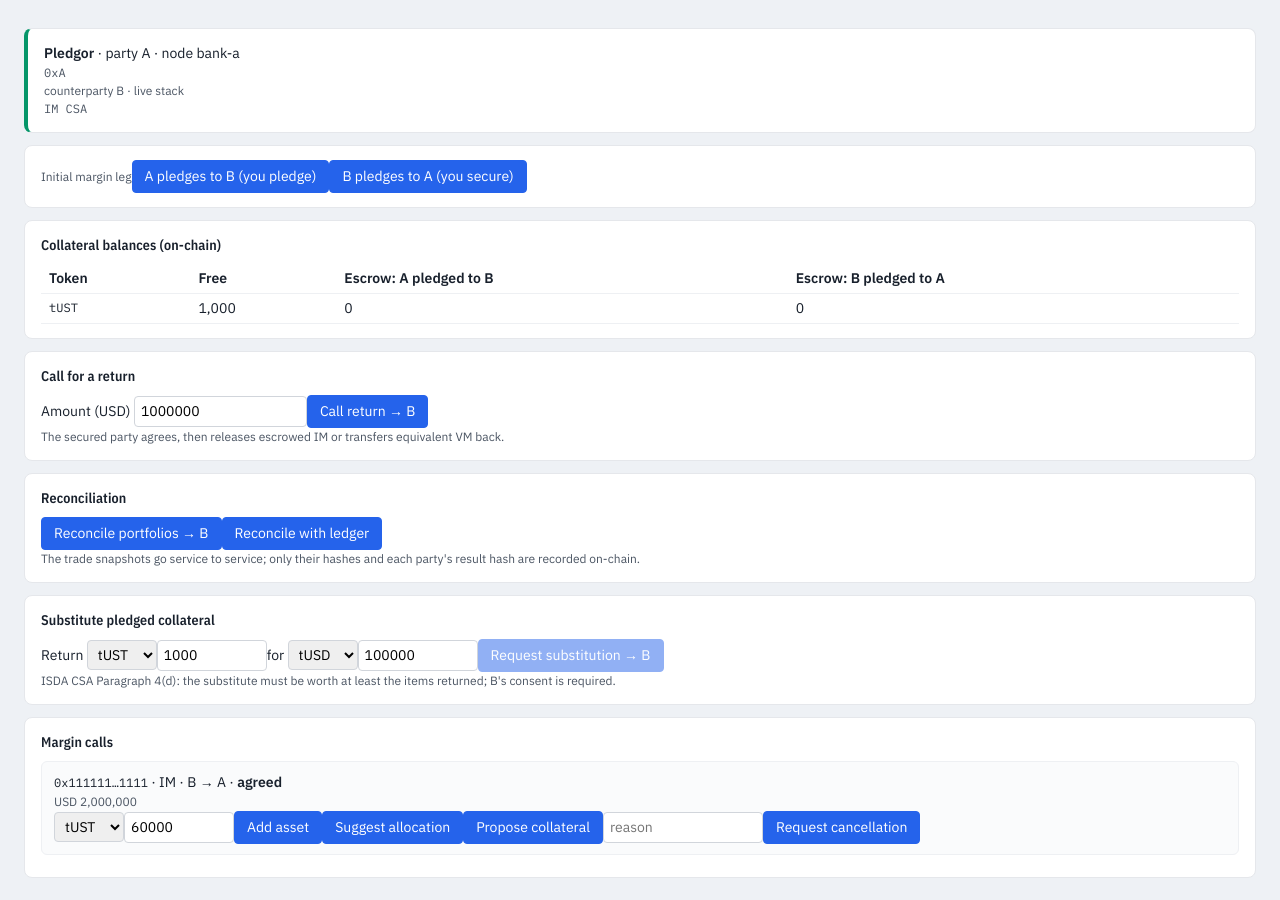
flow-allocation › the called party fills the basket from the suggestion and proposes it
Later steps or results of the test are not shown.
Click the button "Suggest allocation" at (393, 828), box [322,811,463,844]
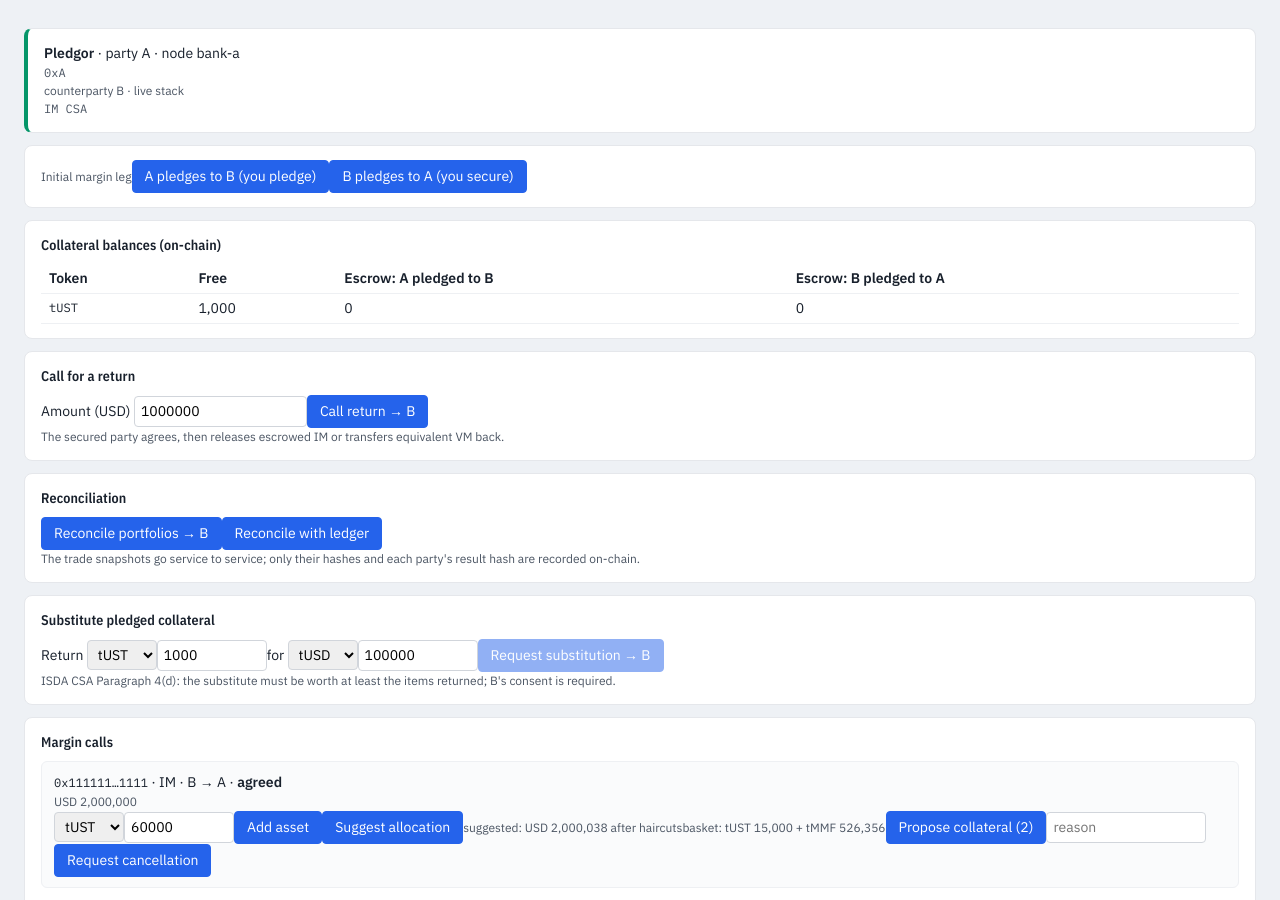
Result: the text "suggested: USD 2,000,038 after haircuts" is shown at [463,820,682,835]
Result: the text "basket: tUST 15,000 + tMMF 526,356" is shown at [682,820,886,835]
